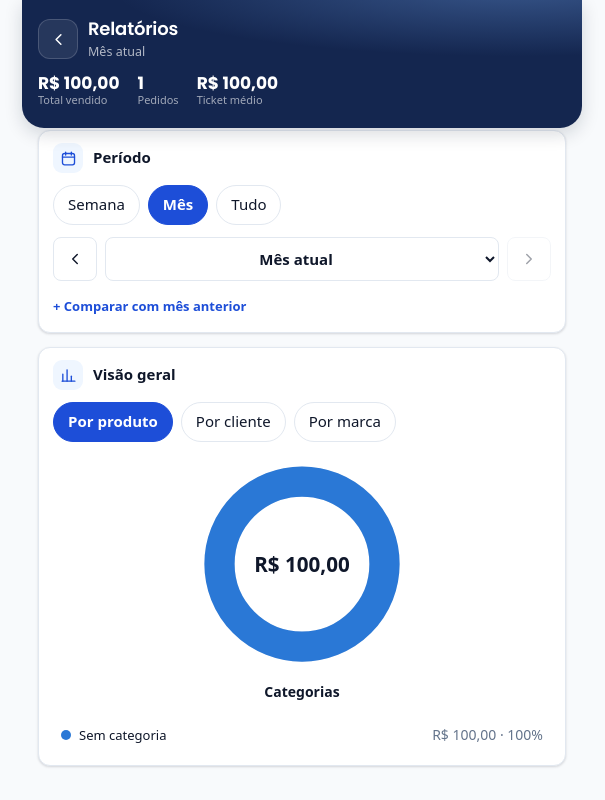
Test: relatórios › as setas de mês trocam os valores; comparar dois meses soma
Expected: the 1st text "R$ 100,00" is shown, [38,73,120,93]
Note: Seta "‹" → mês anterior: agora aparece o de 900.
Click the button named "Mês anterior": [75, 259] box [53,237,97,281]
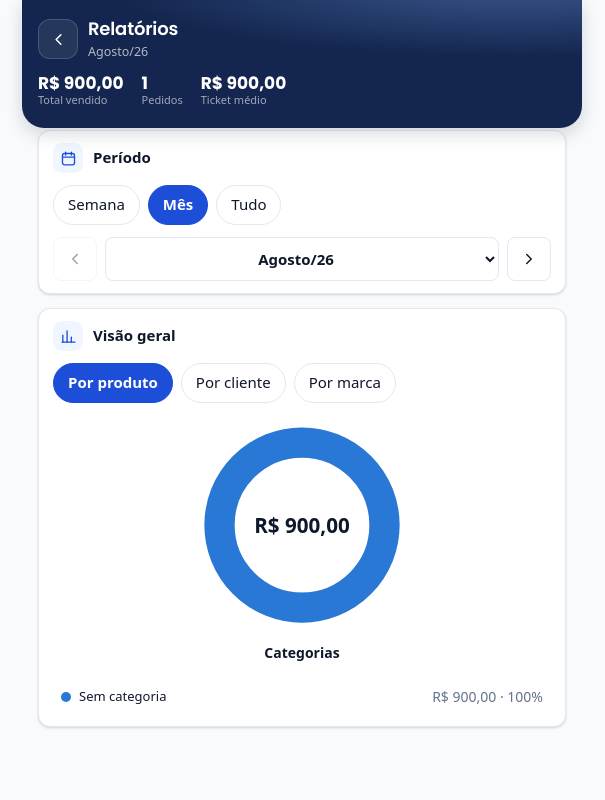
Now the 1st text "R$ 900,00" is shown, box [38,73,124,93]
Note: Seta "›" volta pro mês atual: de novo 100.
Click the button named "Próximo mês": [529, 259] box [507,237,551,281]
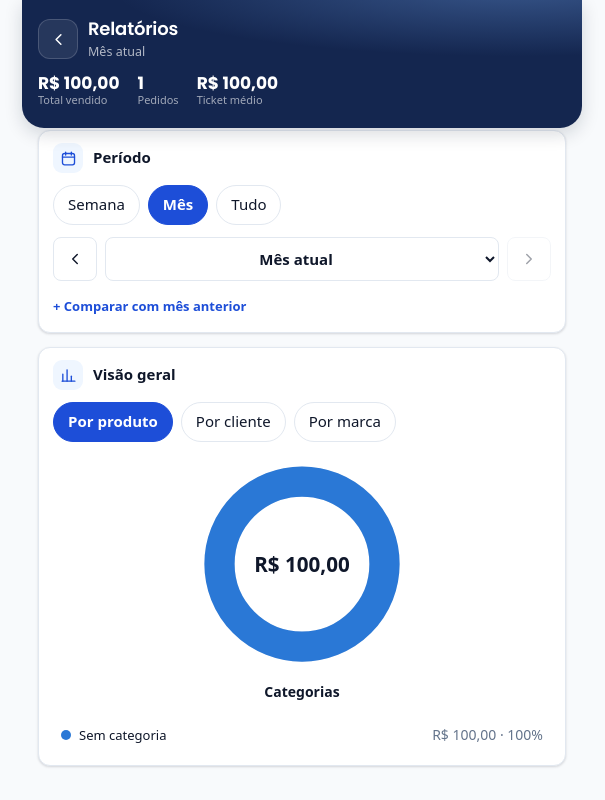
Now the 1st text "R$ 100,00" is shown, box [38,73,120,93]
Click the button "+ Comparar com mês anterior": [150, 307] box [53,293,246,320]
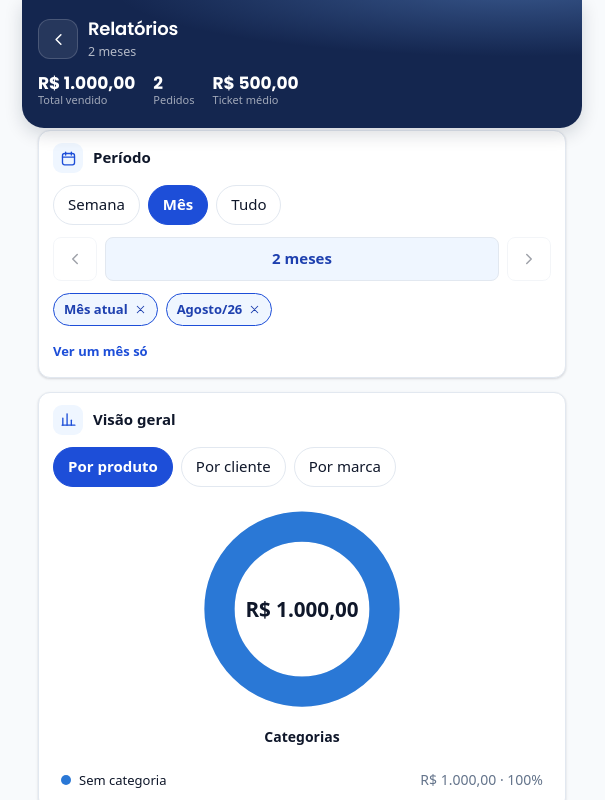
Now the text "R$ 1.000,00" is shown, box [38,73,135,93]
